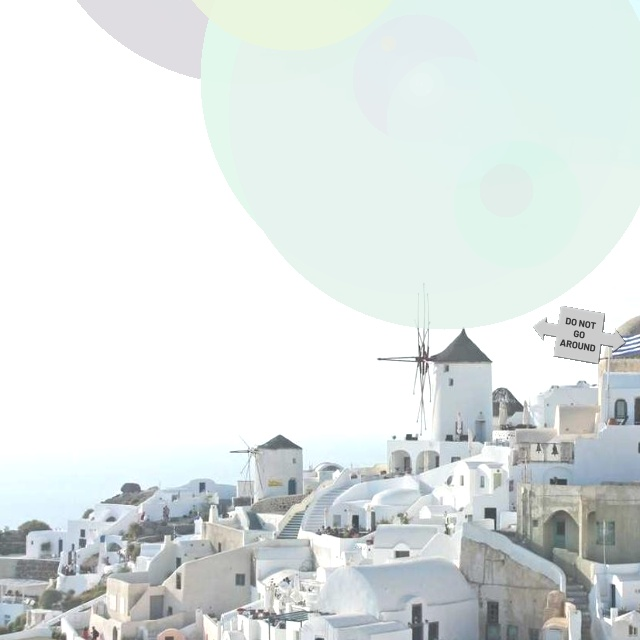DO_NOT_GO_AROUND: (532, 305, 626, 364)
